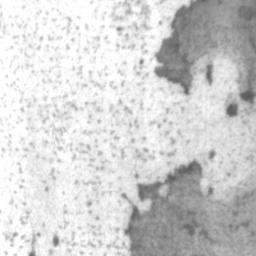Pitted surface: (0, 0, 256, 256), (239, 1, 256, 21), (250, 37, 256, 53)
